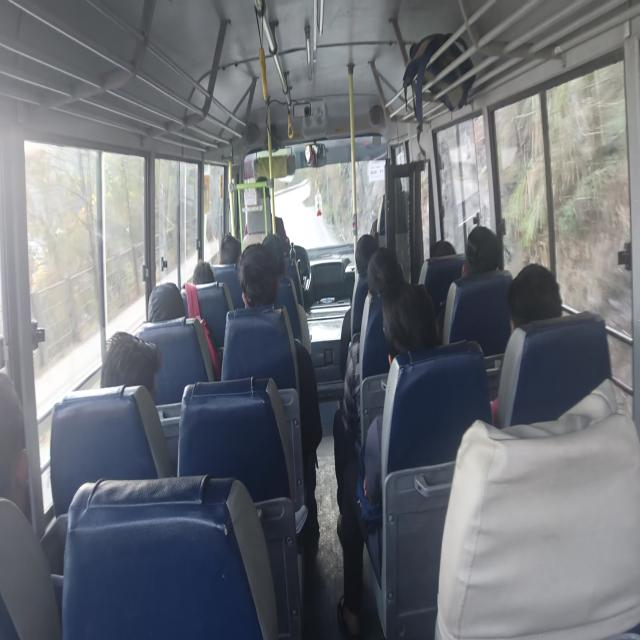person: (94, 320, 166, 420), (0, 366, 38, 518), (383, 287, 445, 371), (511, 258, 566, 349), (236, 245, 282, 318), (465, 225, 505, 292), (147, 278, 192, 335), (259, 226, 294, 284), (354, 227, 383, 279), (255, 172, 284, 220), (370, 250, 398, 294), (428, 239, 462, 270), (218, 226, 244, 266), (193, 256, 219, 294)
